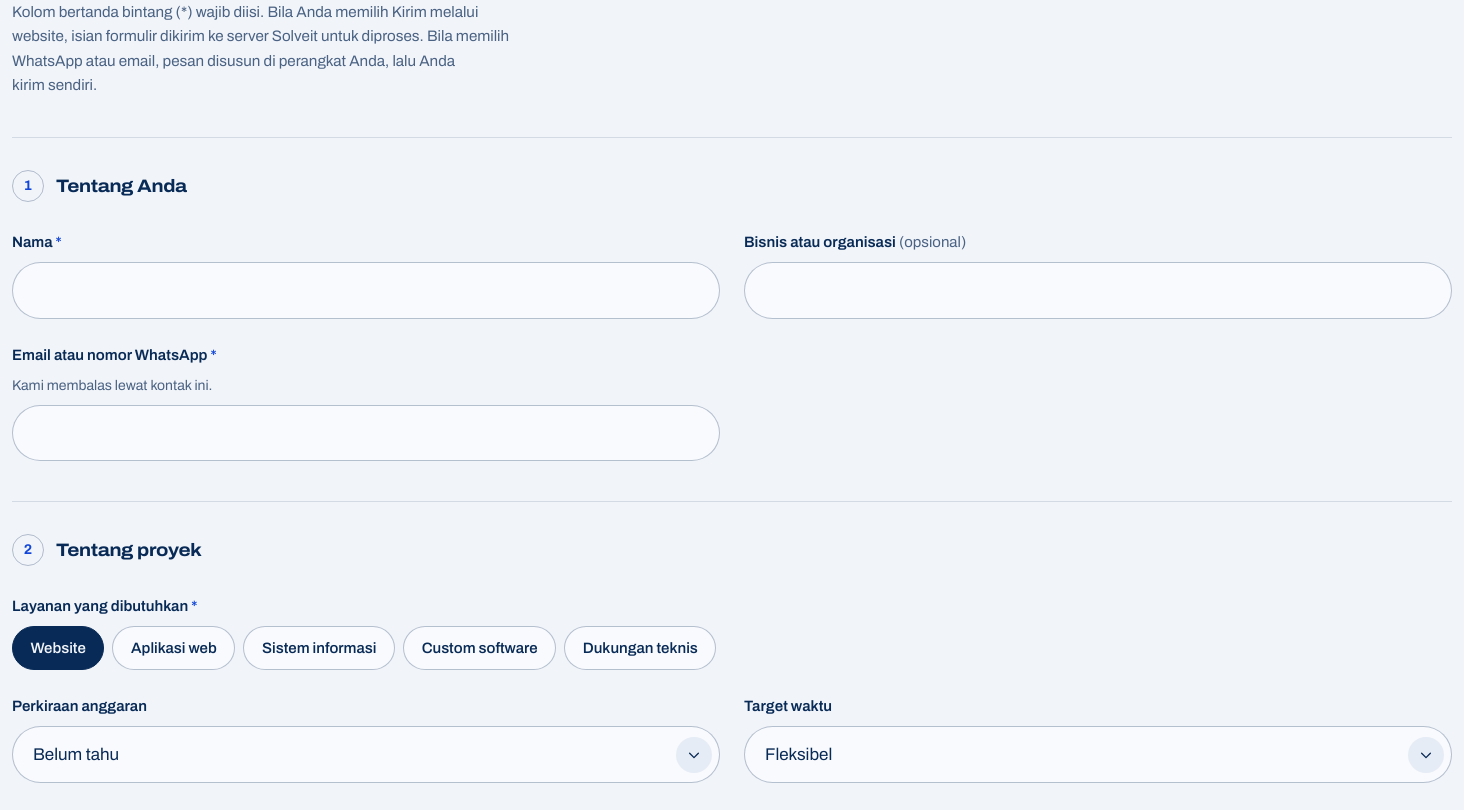
Test: InquiryForm with the website channel › explains a honeypot rejection without exposing it
Type "Rina Wulandari" into the field labelled "Nama *" at (366, 290), box [12, 262, 720, 319]
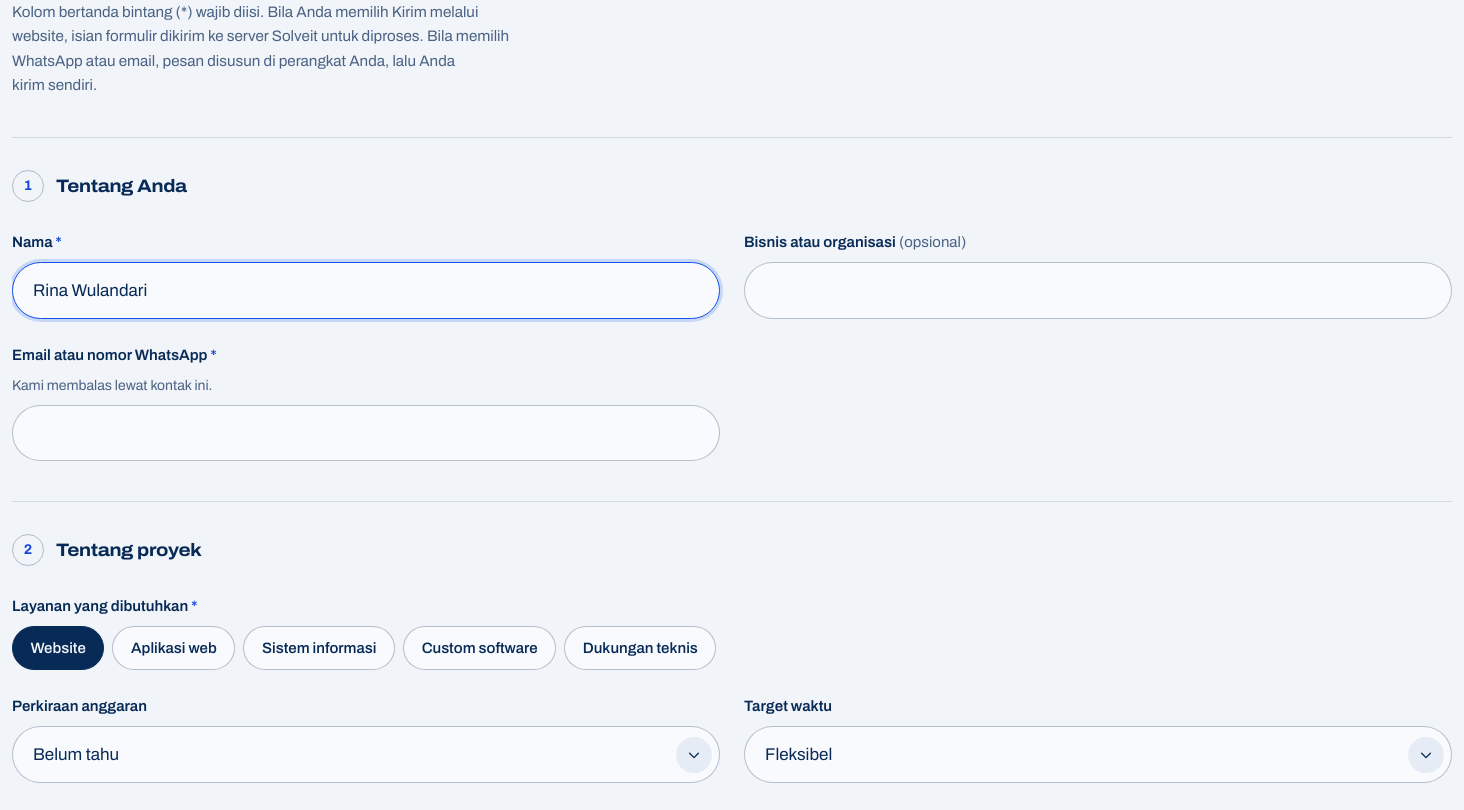
Type "rina@example.com" into the field labelled "Email atau nomor WhatsApp *" at (366, 433), box [12, 405, 720, 461]
(page scrolled)
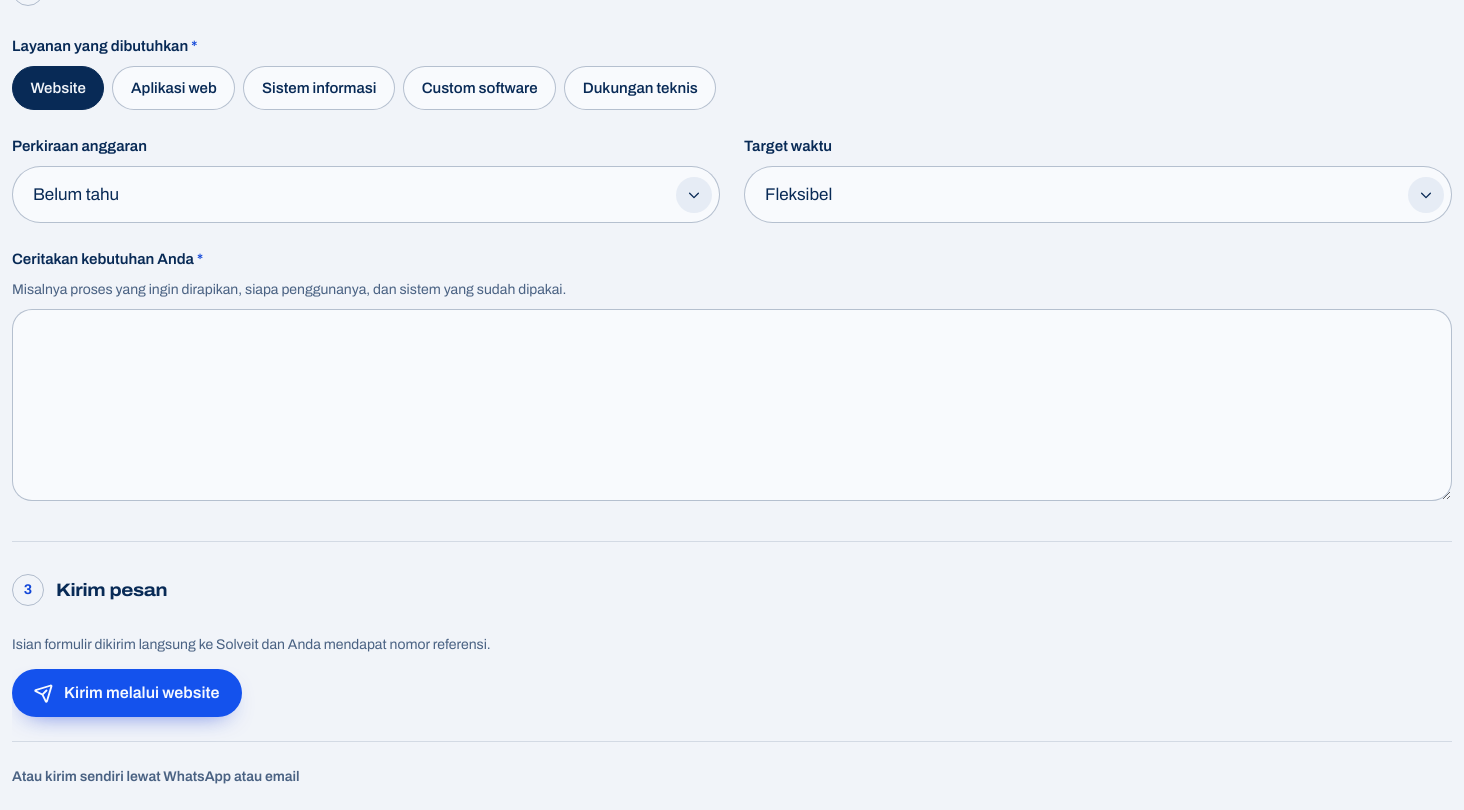
Type "Kami butuh website profil dengan katalog produk." into the text box labelled "Ceritakan kebutuhan Anda *" at (732, 405), box [12, 309, 1452, 502]
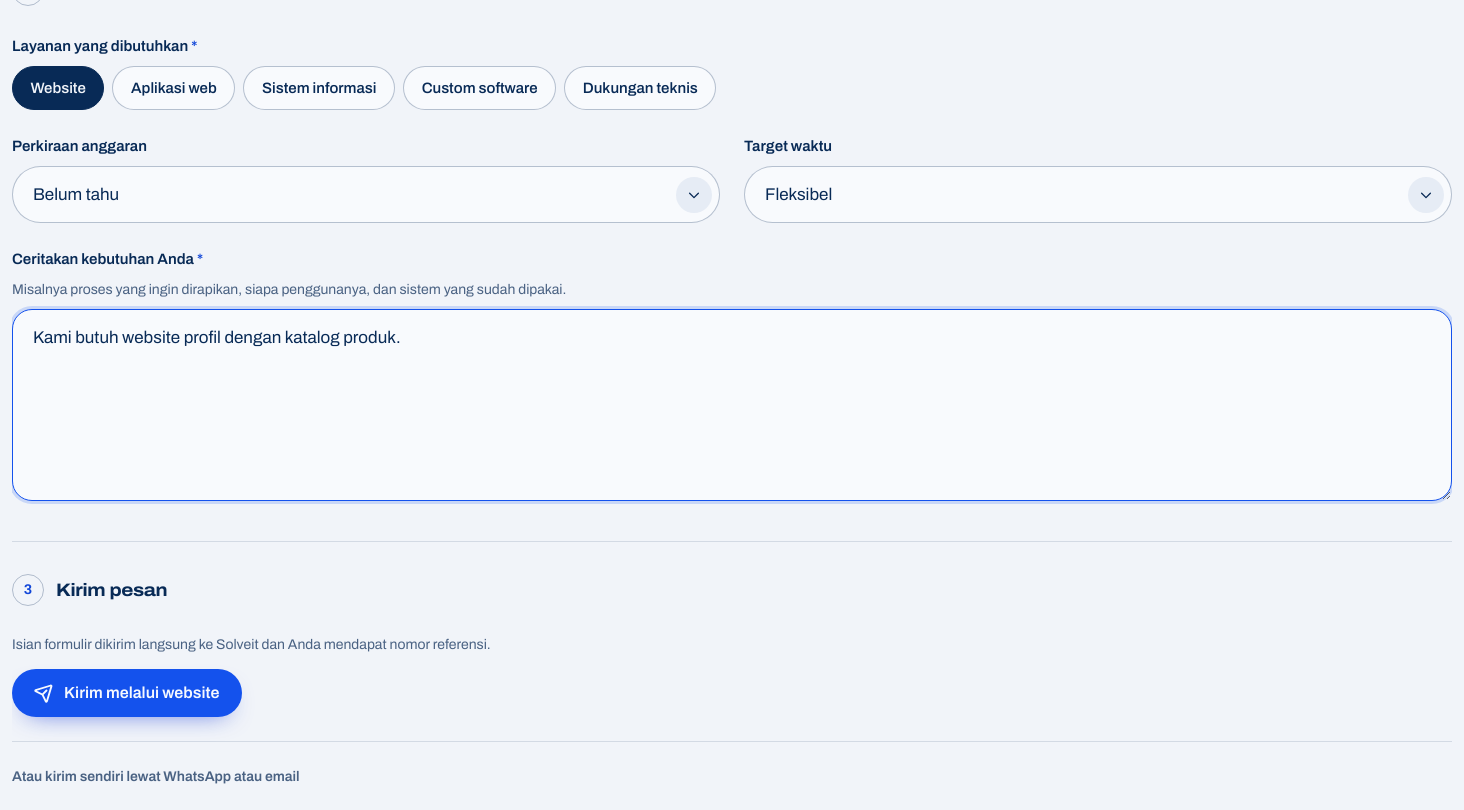
Click the button "Kirim melalui website" at (127, 693), box [12, 669, 242, 717]
(page scrolled)
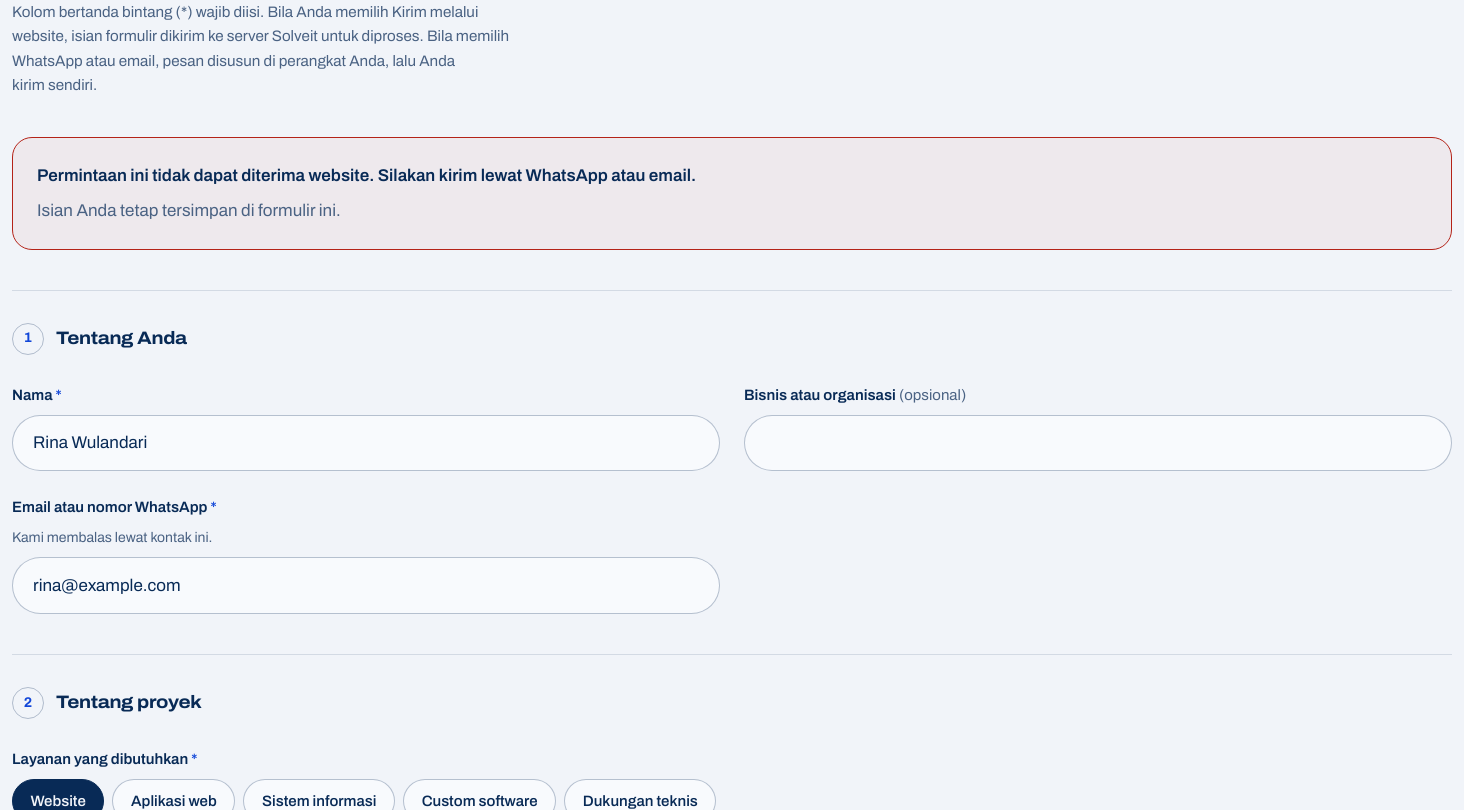
Now the message shows "Permintaan ini tidak dapat diterima website.", box [37, 166, 696, 185]
